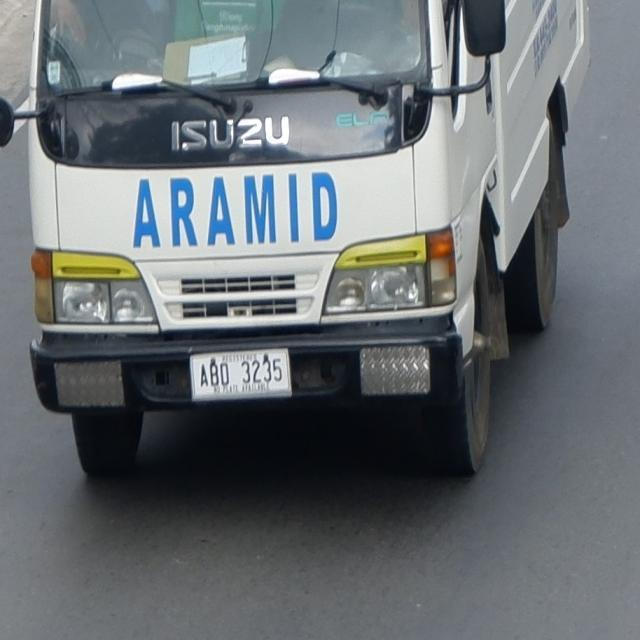LicensePlate: (189, 345, 293, 404)
